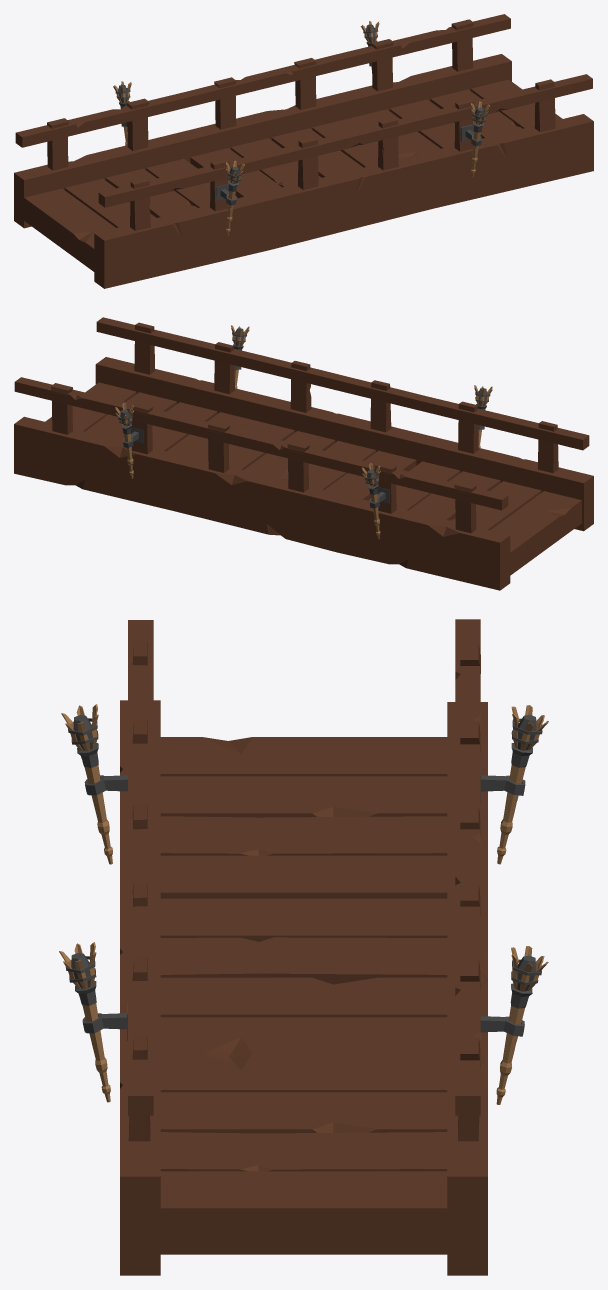
Rendered from Bridge1.fbx.
The picture shows the model from 3 angles, top to bottom: view 1: azimuth 30°, elevation 25°; view 2: azimuth 150°, elevation 25°; view 3: azimuth 270°, elevation 25°; orthographic projection. The views are drawn at different scales.
Visible parts, largest first — view 1: Bridge1; view 2: Bridge1; view 3: Bridge1.
Boxes of the visible parts, x1,y1,x2,y2 form: Bridge1: (14,14,593,288); Bridge1: (14,317,593,590); Bridge1: (59,619,548,1275).
Bounding box in the file's own units: 514 × 105 × 223.
